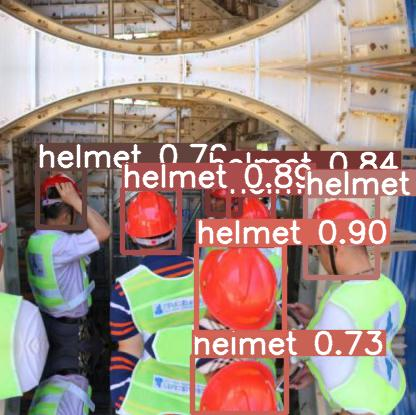helmet: (196, 244, 284, 334), (305, 195, 377, 277), (192, 355, 286, 413), (122, 188, 179, 252), (37, 168, 84, 227), (228, 194, 273, 245), (207, 176, 240, 214)
